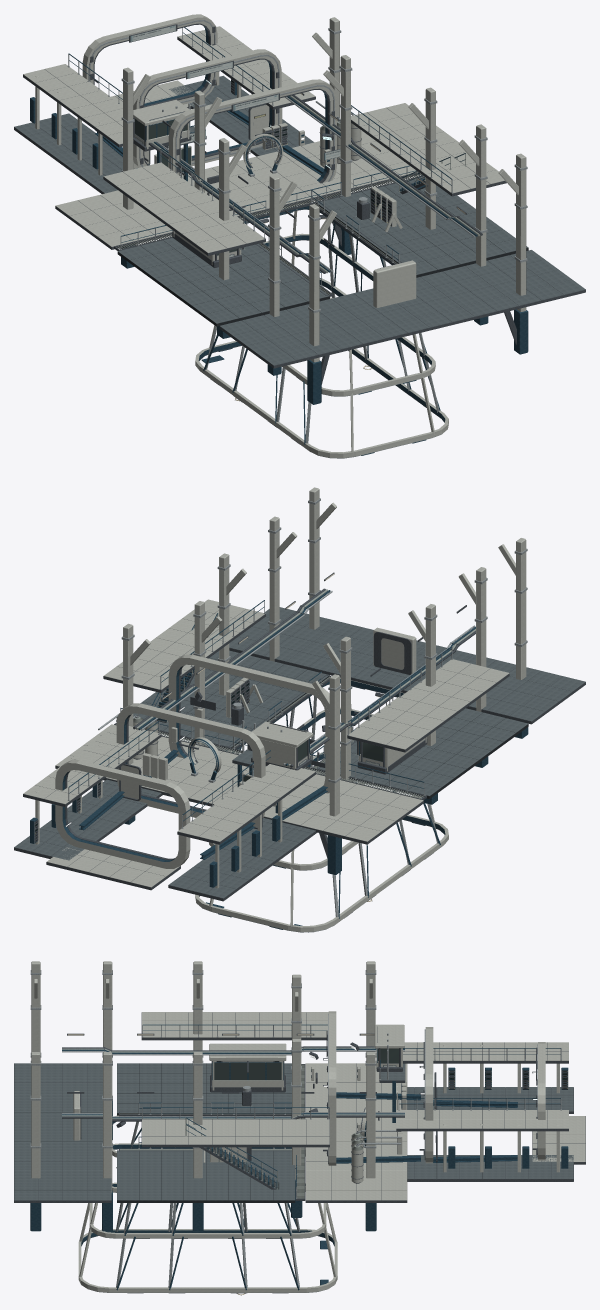
File: static.fbx
The picture shows the model from 3 angles, top to bottom: view 1: azimuth 30°, elevation 25°; view 2: azimuth 150°, elevation 25°; view 3: azimuth 270°, elevation 25°; orthographic projection. The views are drawn at different scales.
Parts seen in each view (by area): view 1: SM_aster_static; view 2: SM_aster_static; view 3: SM_aster_static.
Part boxes in pixels (x1=…): SM_aster_static: x1=14, y1=14, x2=585, y2=458; SM_aster_static: x1=14, y1=487, x2=585, y2=932; SM_aster_static: x1=14, y1=961, x2=585, y2=1295.
Bounding box in the file's own units: 24.28 × 21.28 × 42.8.
Materials: 17 (12 with a texture image).
